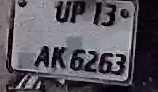1: (90, 1, 103, 29)
2: (83, 49, 100, 74)
3: (101, 3, 120, 27), (112, 50, 127, 78)
6: (98, 51, 113, 79), (69, 48, 86, 72)
A: (36, 46, 51, 71)
K: (51, 44, 69, 72)
P: (70, 1, 88, 26)
U: (55, 1, 72, 24)
